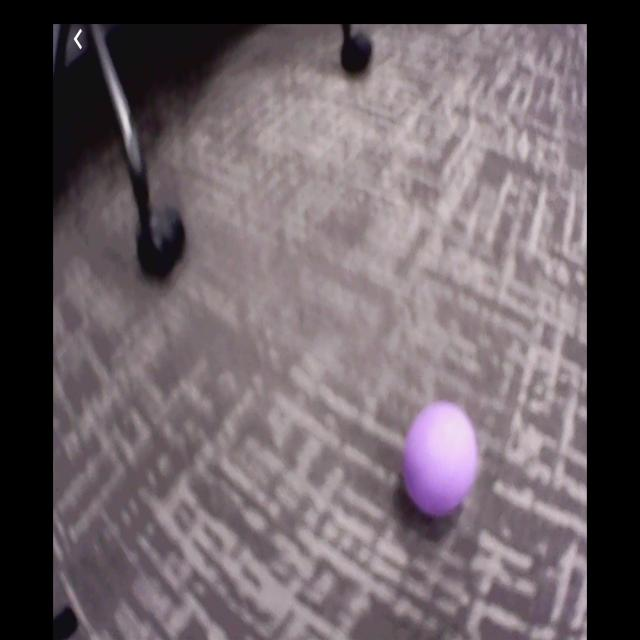ball: (406, 402, 477, 516)
